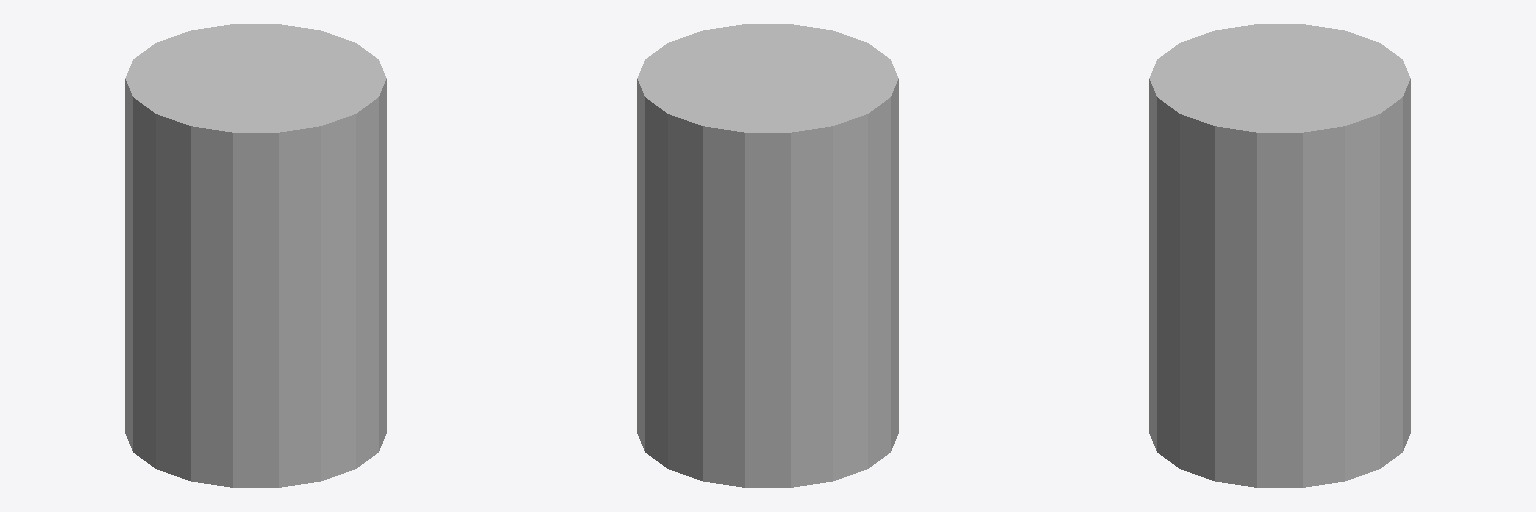
Rendered from cactus.obj.
3 renders of one model, left to right at view 1: azimuth 30°, elevation 25°; view 2: azimuth 150°, elevation 25°; view 3: azimuth 270°, elevation 25°, orthographic.
Parts seen in each view (by area): view 1: pCylinder1; view 2: pCylinder1; view 3: pCylinder1.
Part boxes in pixels (left/top/right/bottom): pCylinder1: left=125, top=24, right=386, bottom=487; pCylinder1: left=637, top=24, right=898, bottom=487; pCylinder1: left=1149, top=24, right=1410, bottom=487.
Bounding box in the file's own units: 0.2954 × 0.45 × 0.3.